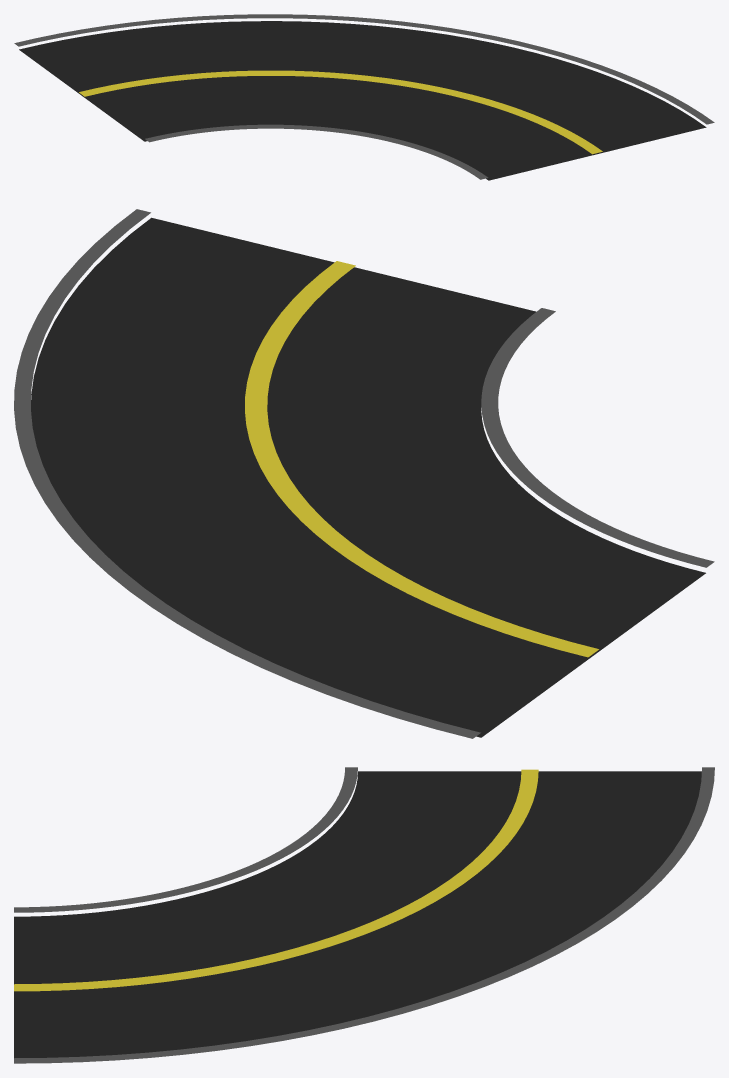
The model's file is road-curve.glb.
The picture shows the model from 3 angles, top to bottom: view 1: azimuth 30°, elevation 25°; view 2: azimuth 150°, elevation 25°; view 3: azimuth 270°, elevation 25°; orthographic projection. The views are drawn at different scales.
Visible parts, largest first — view 1: road-curve-body; view 2: road-curve-body; view 3: road-curve-body.
Boxes of the visible parts, left/top/right/bottom form: road-curve-body: left=14, top=14, right=714, bottom=180; road-curve-body: left=14, top=209, right=714, bottom=738; road-curve-body: left=14, top=767, right=714, bottom=1063.
Size of the model in its own units: 8.15 by 0.05 by 8.15.
